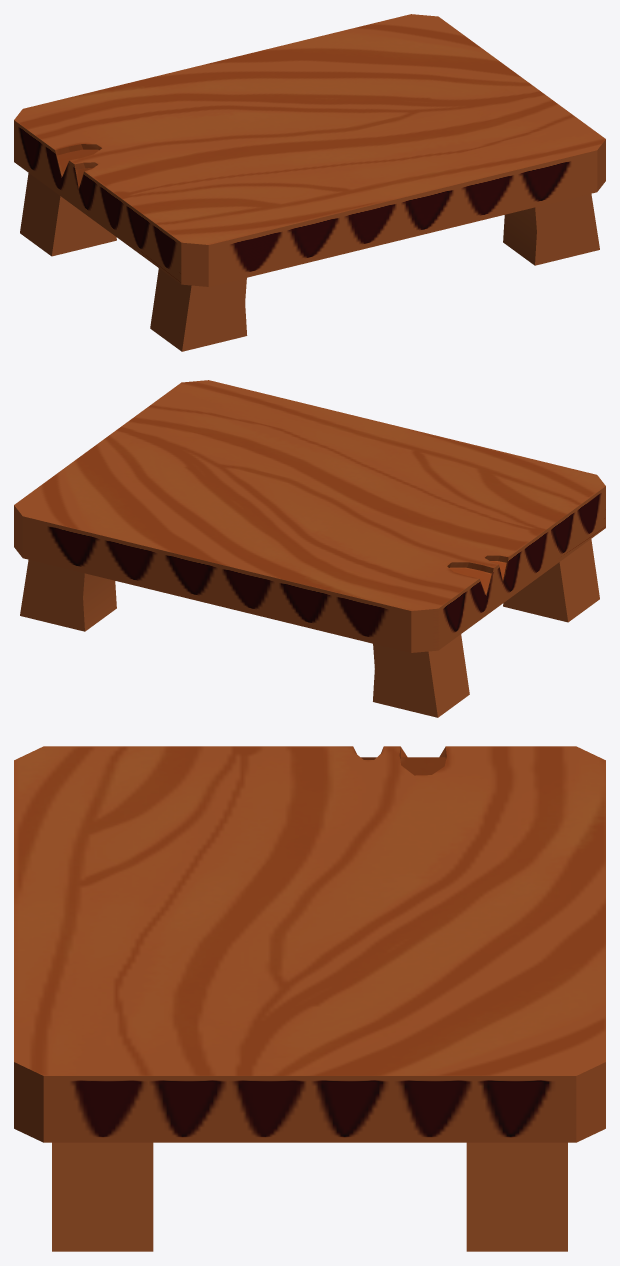
Rendered from Mesa.obj.
3 views of the same model, one above another, from view 1: azimuth 30°, elevation 25°; view 2: azimuth 150°, elevation 25°; view 3: azimuth 270°, elevation 25° (orthographic). The views are drawn at different scales.
Parts seen in each view (by area): view 1: MesaNew_pCube1, MesaNew_pCube2, pCube3, MesaNew_pCube4; view 2: MesaNew_pCube1, MesaNew_pCube4, MesaNew_pCube5, MesaNew_pCube2; view 3: MesaNew_pCube1, pCube3, MesaNew_pCube5.
Boxes of the visible parts, box(x1,y1,x2,y2) form: MesaNew_pCube1: box(14, 14, 605, 286); MesaNew_pCube2: box(150, 268, 247, 351); pCube3: box(503, 194, 599, 265); MesaNew_pCube4: box(20, 173, 116, 256); MesaNew_pCube1: box(14, 380, 605, 652); MesaNew_pCube4: box(373, 634, 469, 717); MesaNew_pCube5: box(20, 560, 116, 631); MesaNew_pCube2: box(503, 539, 599, 622); MesaNew_pCube1: box(14, 746, 605, 1142); pCube3: box(52, 1142, 153, 1251); MesaNew_pCube5: box(466, 1142, 567, 1251).
Bounding box in the file's own units: 1.85 × 0.4662 × 1.4.
Materials: 2 (2 with a texture image).
